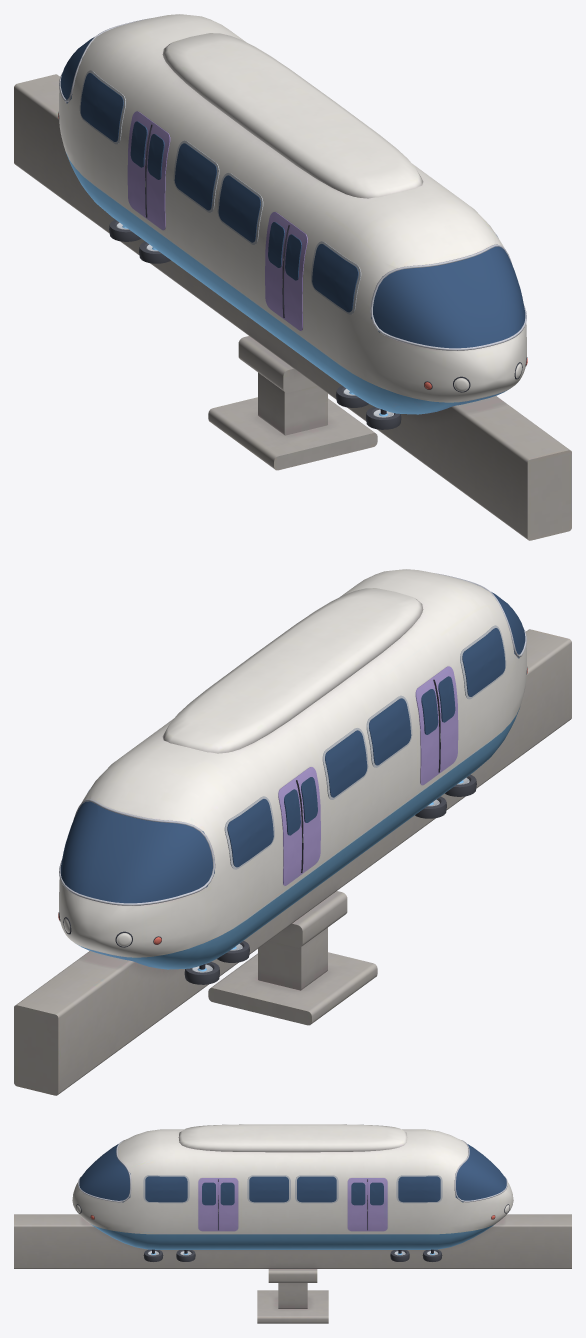
The model's file is monorail.glb.
The picture shows the model from 3 angles, top to bottom: view 1: azimuth 30°, elevation 25°; view 2: azimuth 150°, elevation 25°; view 3: azimuth 270°, elevation 25°; orthographic projection. The views are drawn at different scales.
Parts seen in each view (by area): view 1: monorail_body, monorail_windscreens, monorail_side_windows; view 2: monorail_body, monorail_windscreens, monorail_side_windows; view 3: monorail_body, monorail_side_windows, monorail_windscreens.
Boxes of the visible parts, x1=… form: monorail_body: x1=14, y1=14, x2=571, y2=540; monorail_windscreens: x1=60, y1=37, x2=525, y2=348; monorail_side_windows: x1=79, y1=70, x2=497, y2=314; monorail_body: x1=14, y1=569, x2=571, y2=1095; monorail_windscreens: x1=60, y1=592, x2=525, y2=903; monorail_side_windows: x1=88, y1=625, x2=506, y2=869; monorail_body: x1=14, y1=1124, x2=571, y2=1323; monorail_side_windows: x1=143, y1=1175, x2=442, y2=1205; monorail_windscreens: x1=79, y1=1144, x2=506, y2=1202.
Bounding box in the file's own units: 3.05 × 6.07 × 17.2.
Materials: 32 (1 with a texture image).
